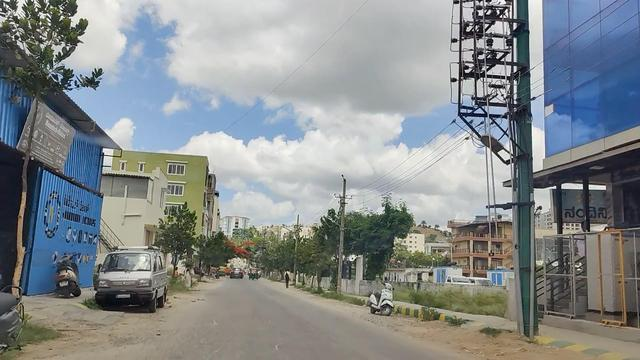LMV: (96, 242, 159, 310), (368, 281, 398, 318)
